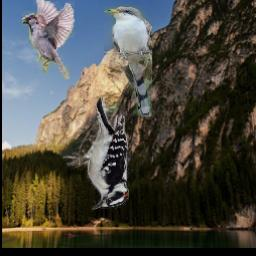Cuckoo: (104, 6, 152, 117)
Sparrow: (22, 0, 76, 79)
Woodpecker: (62, 97, 130, 211)
